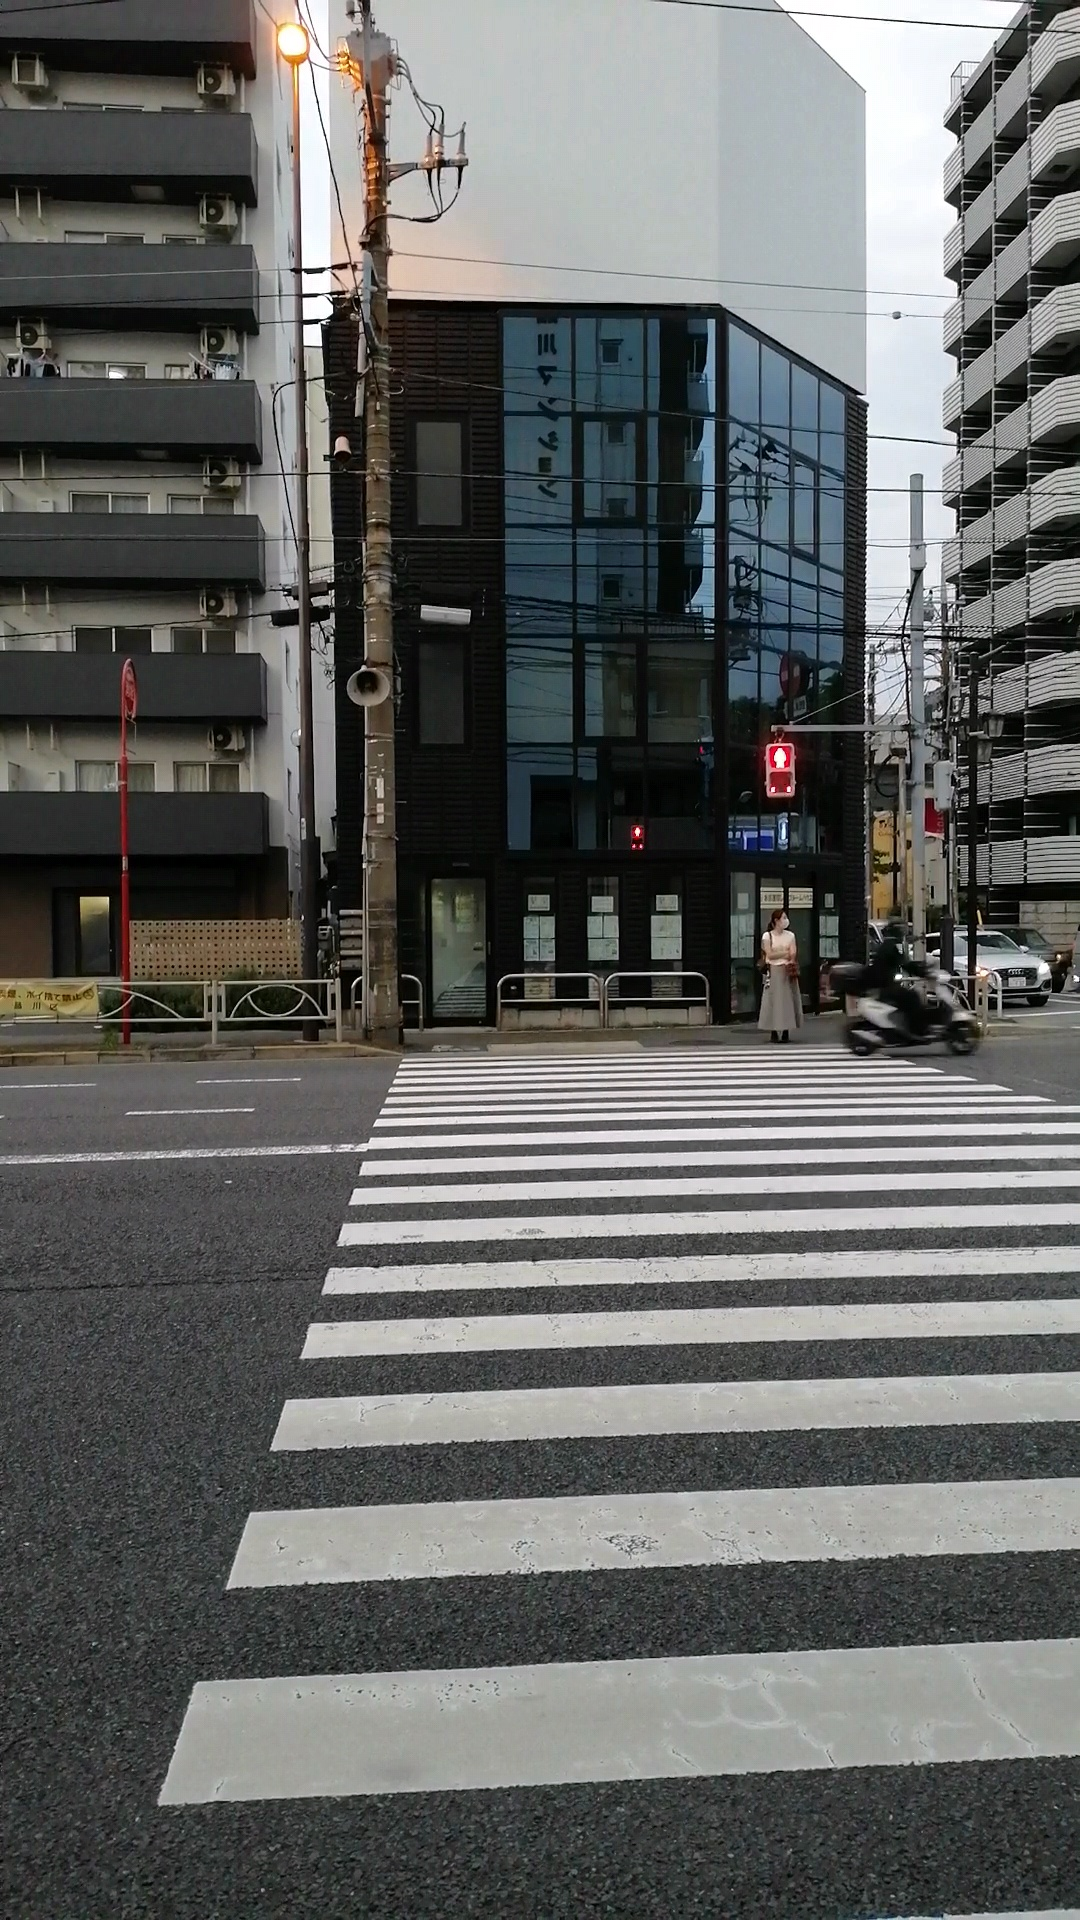red: (764, 742, 795, 796)
